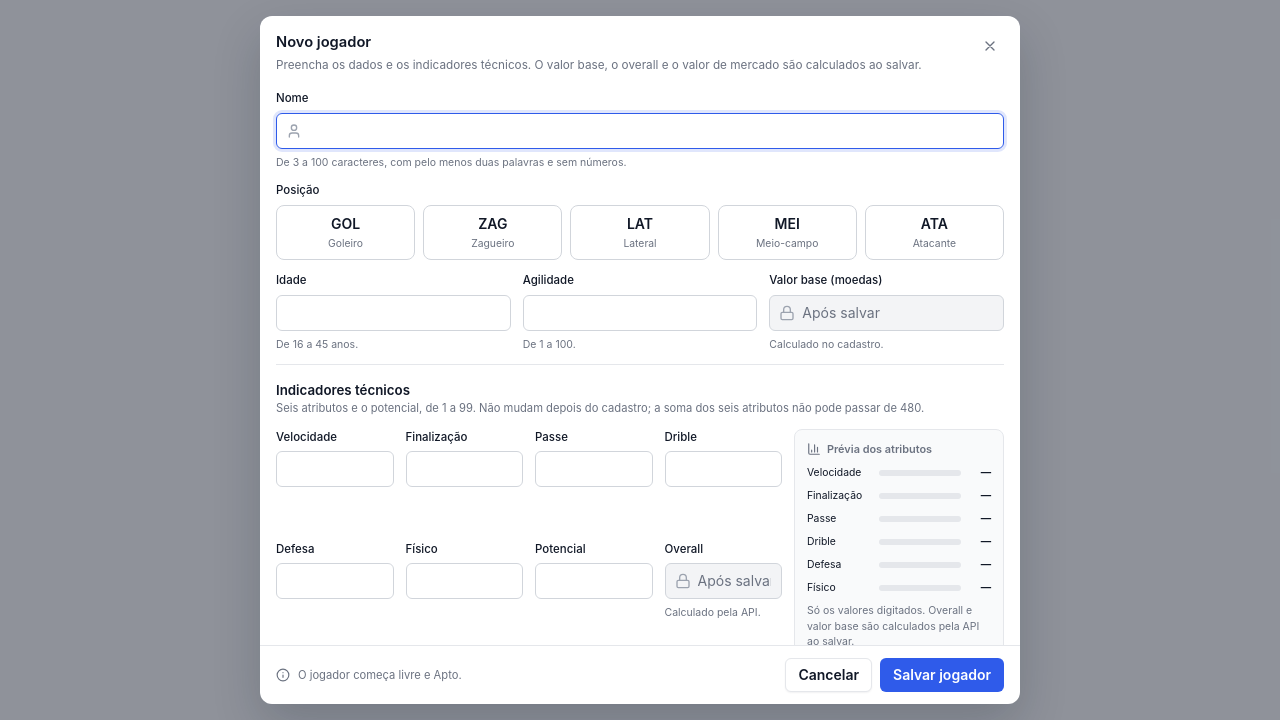
it: PlayerCreateForm › previews only the typed attributes and shows overall and base value as pending
In the number field labelled "Passe": (594, 469) [535,451,652,487], type "82"
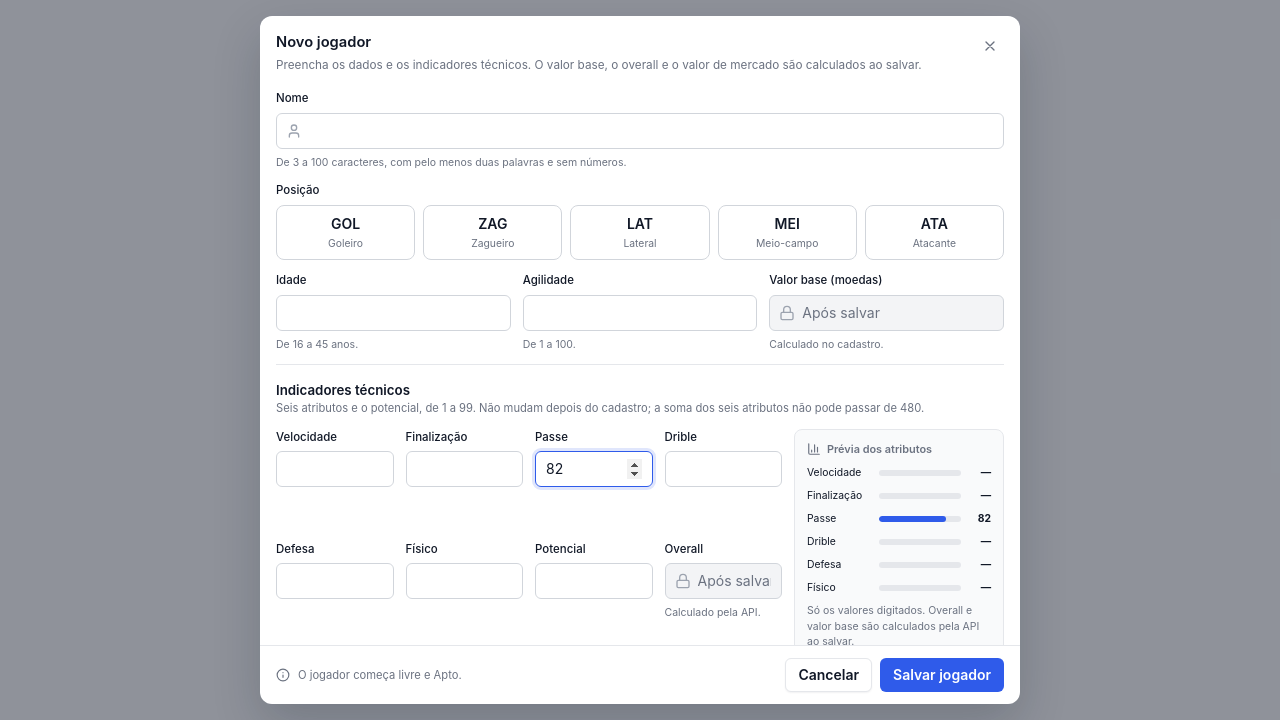
Check: the list item "Velocidade" reads "Velocidade —", box [807,465,991,480]
Check: the list item "Passe" reads "Passe 82", box [807,511,991,526]
